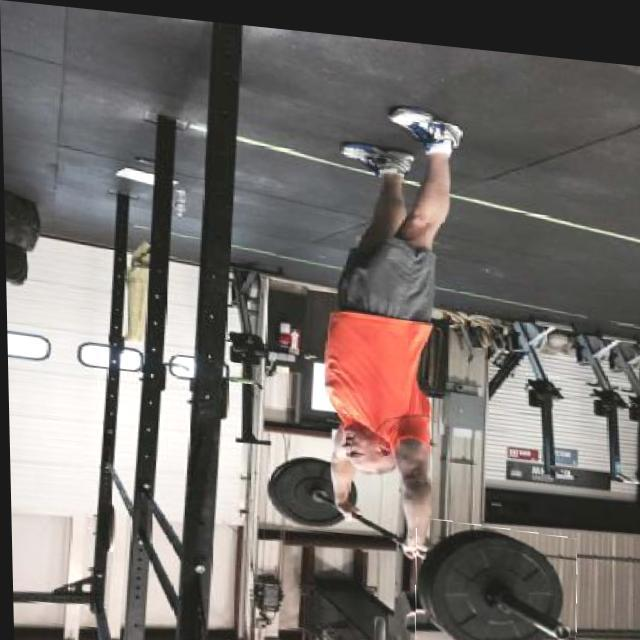barbell: (413, 510, 577, 640)
